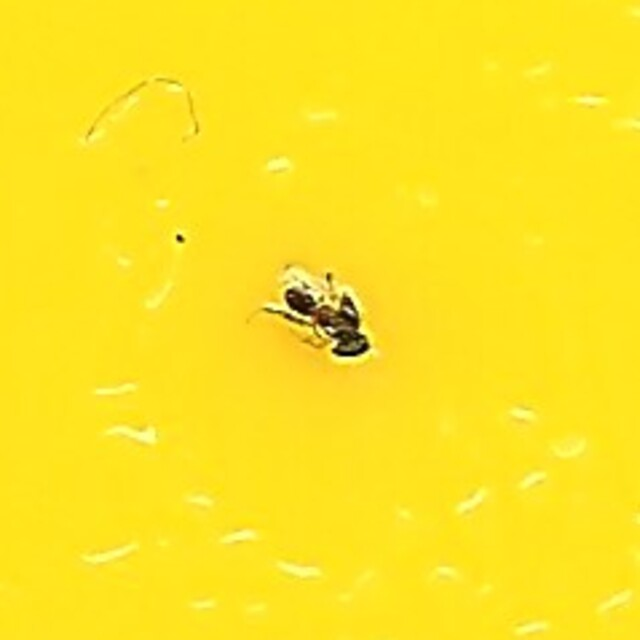Brachycera: (268, 270, 372, 370)
